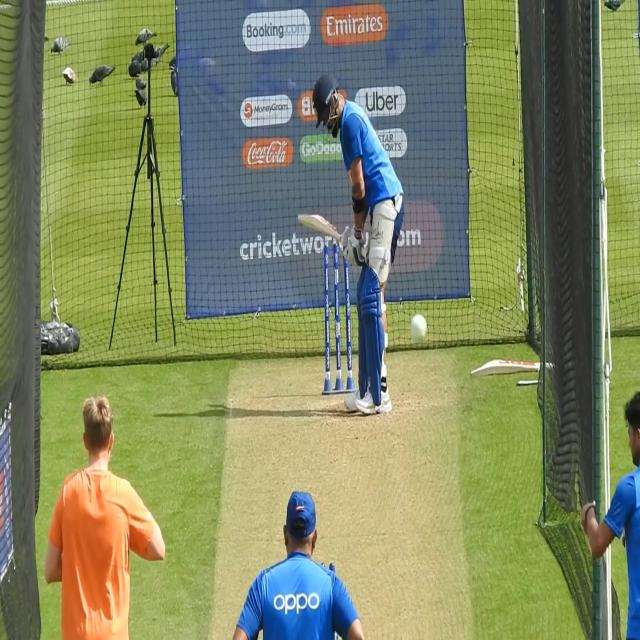stump: (324, 241, 353, 393), (407, 308, 433, 352)
